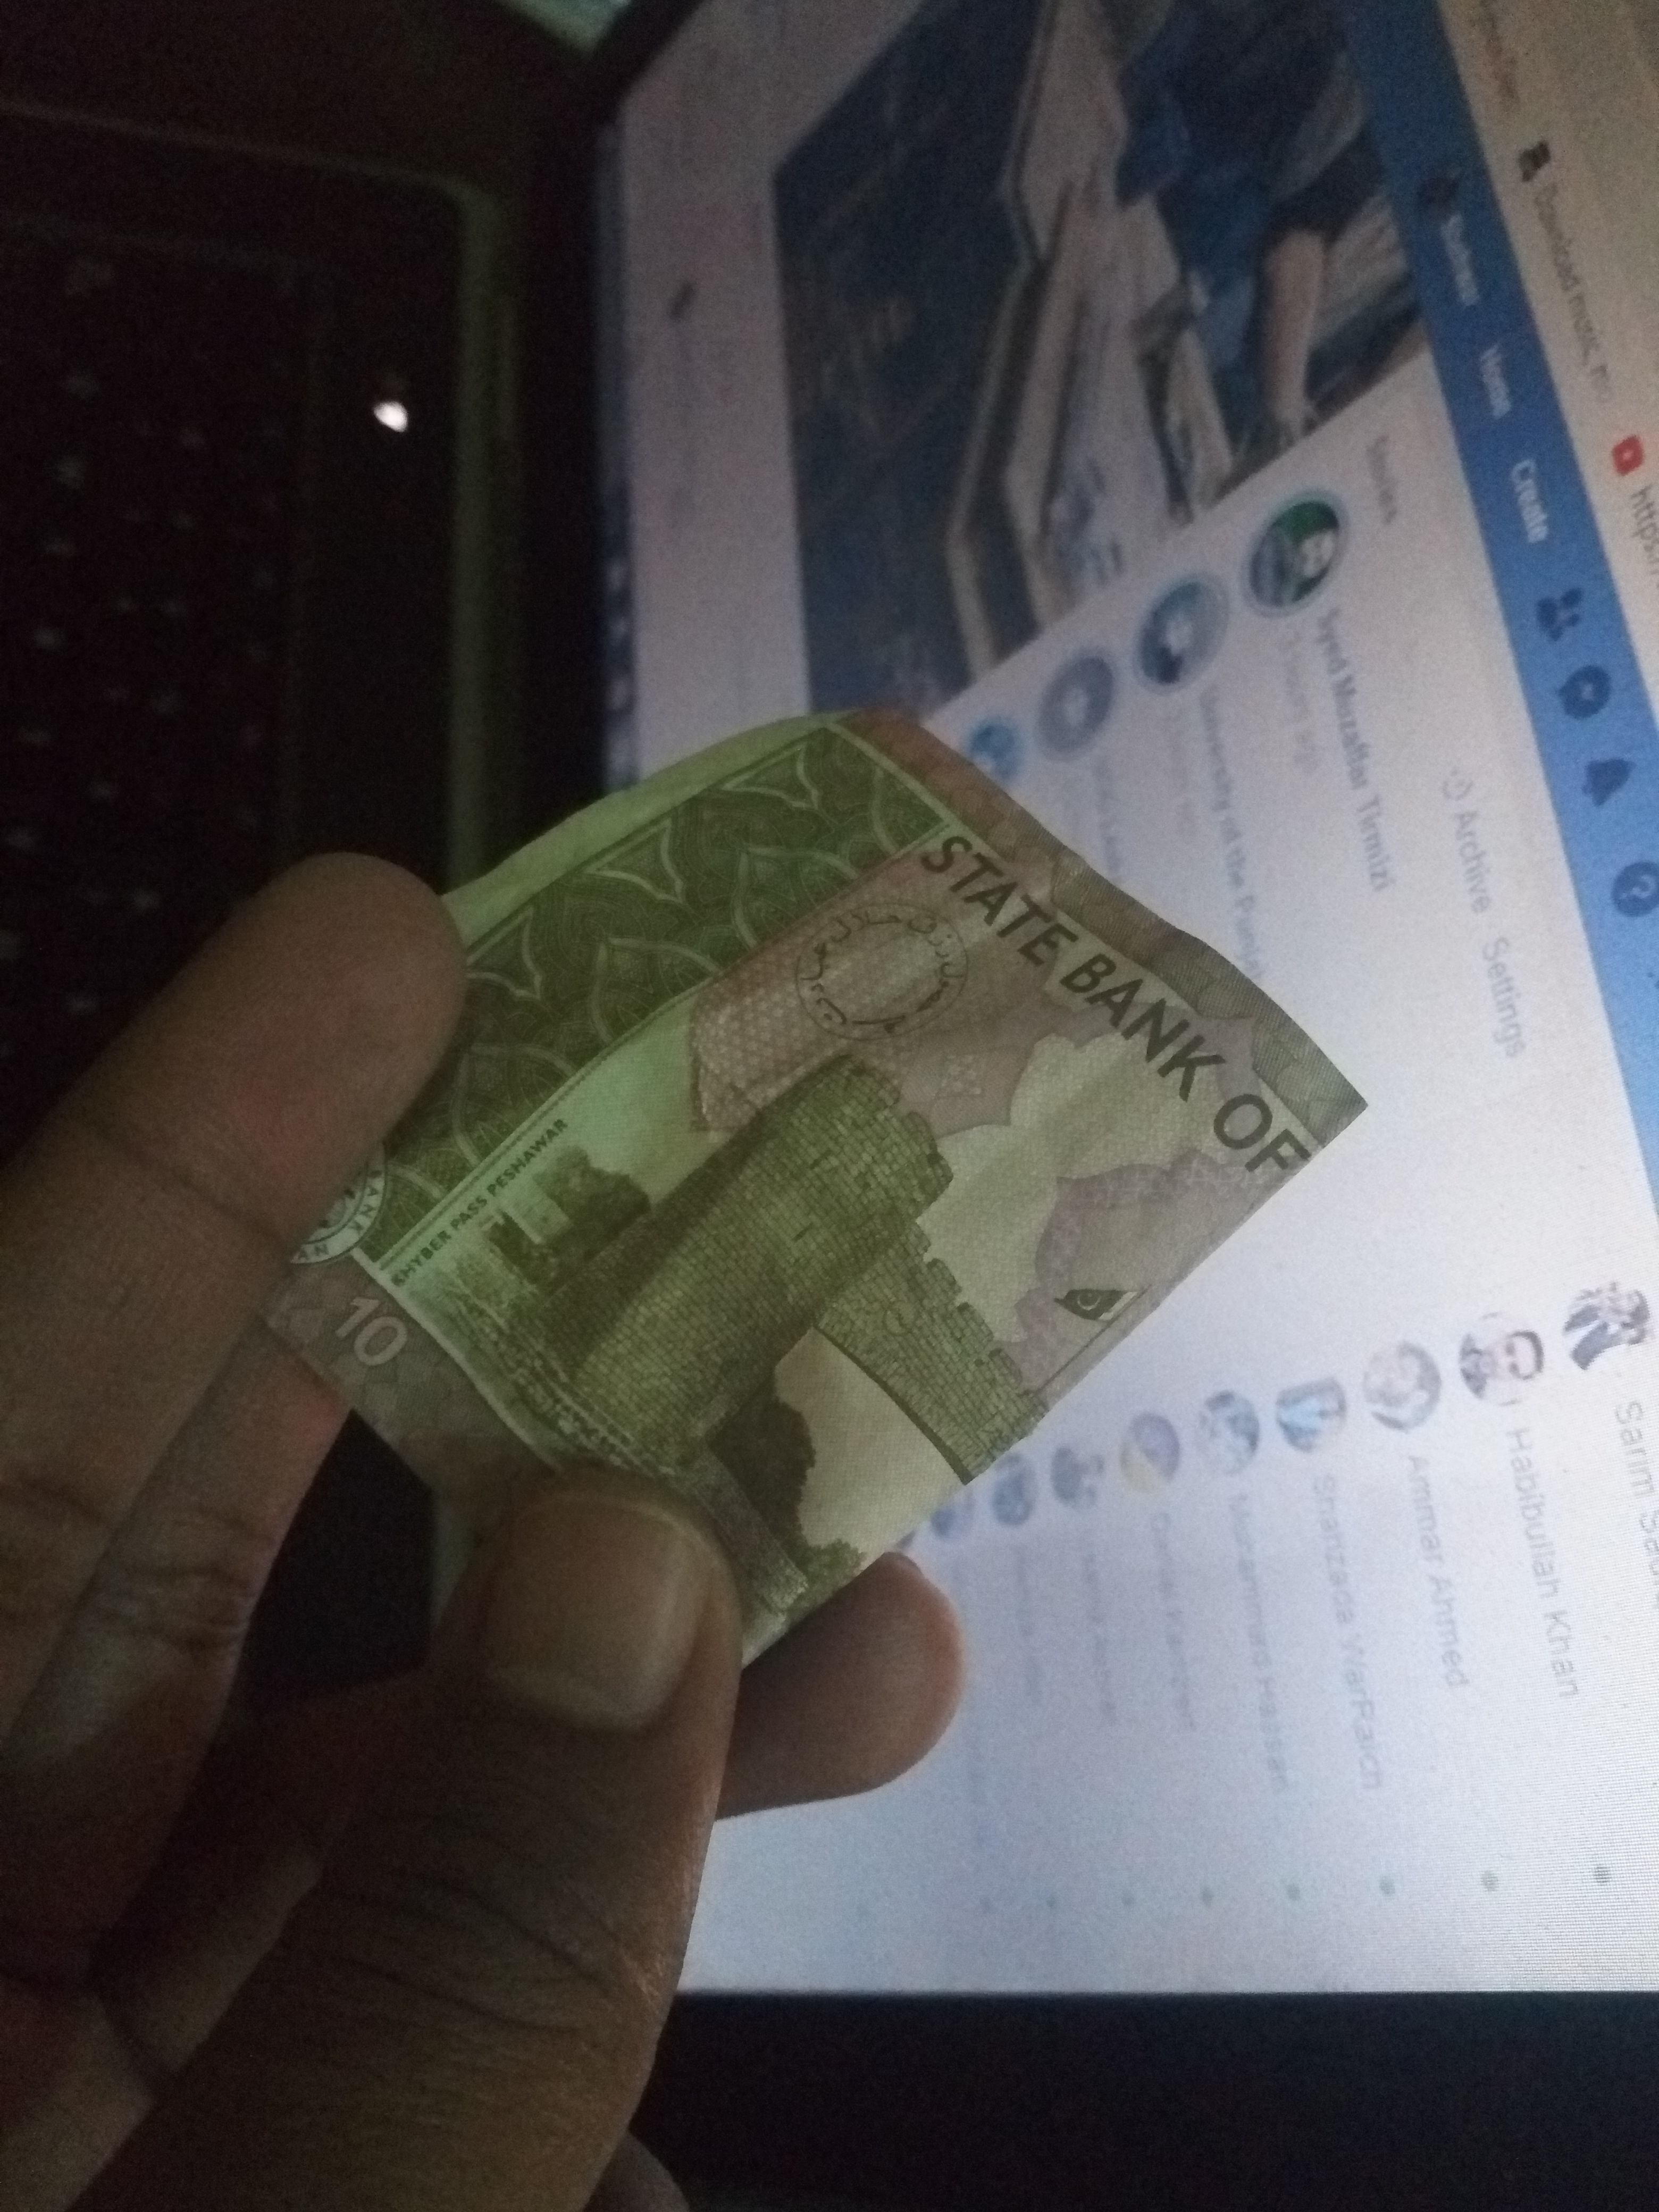10 rupee: (279, 669, 1347, 1731)
